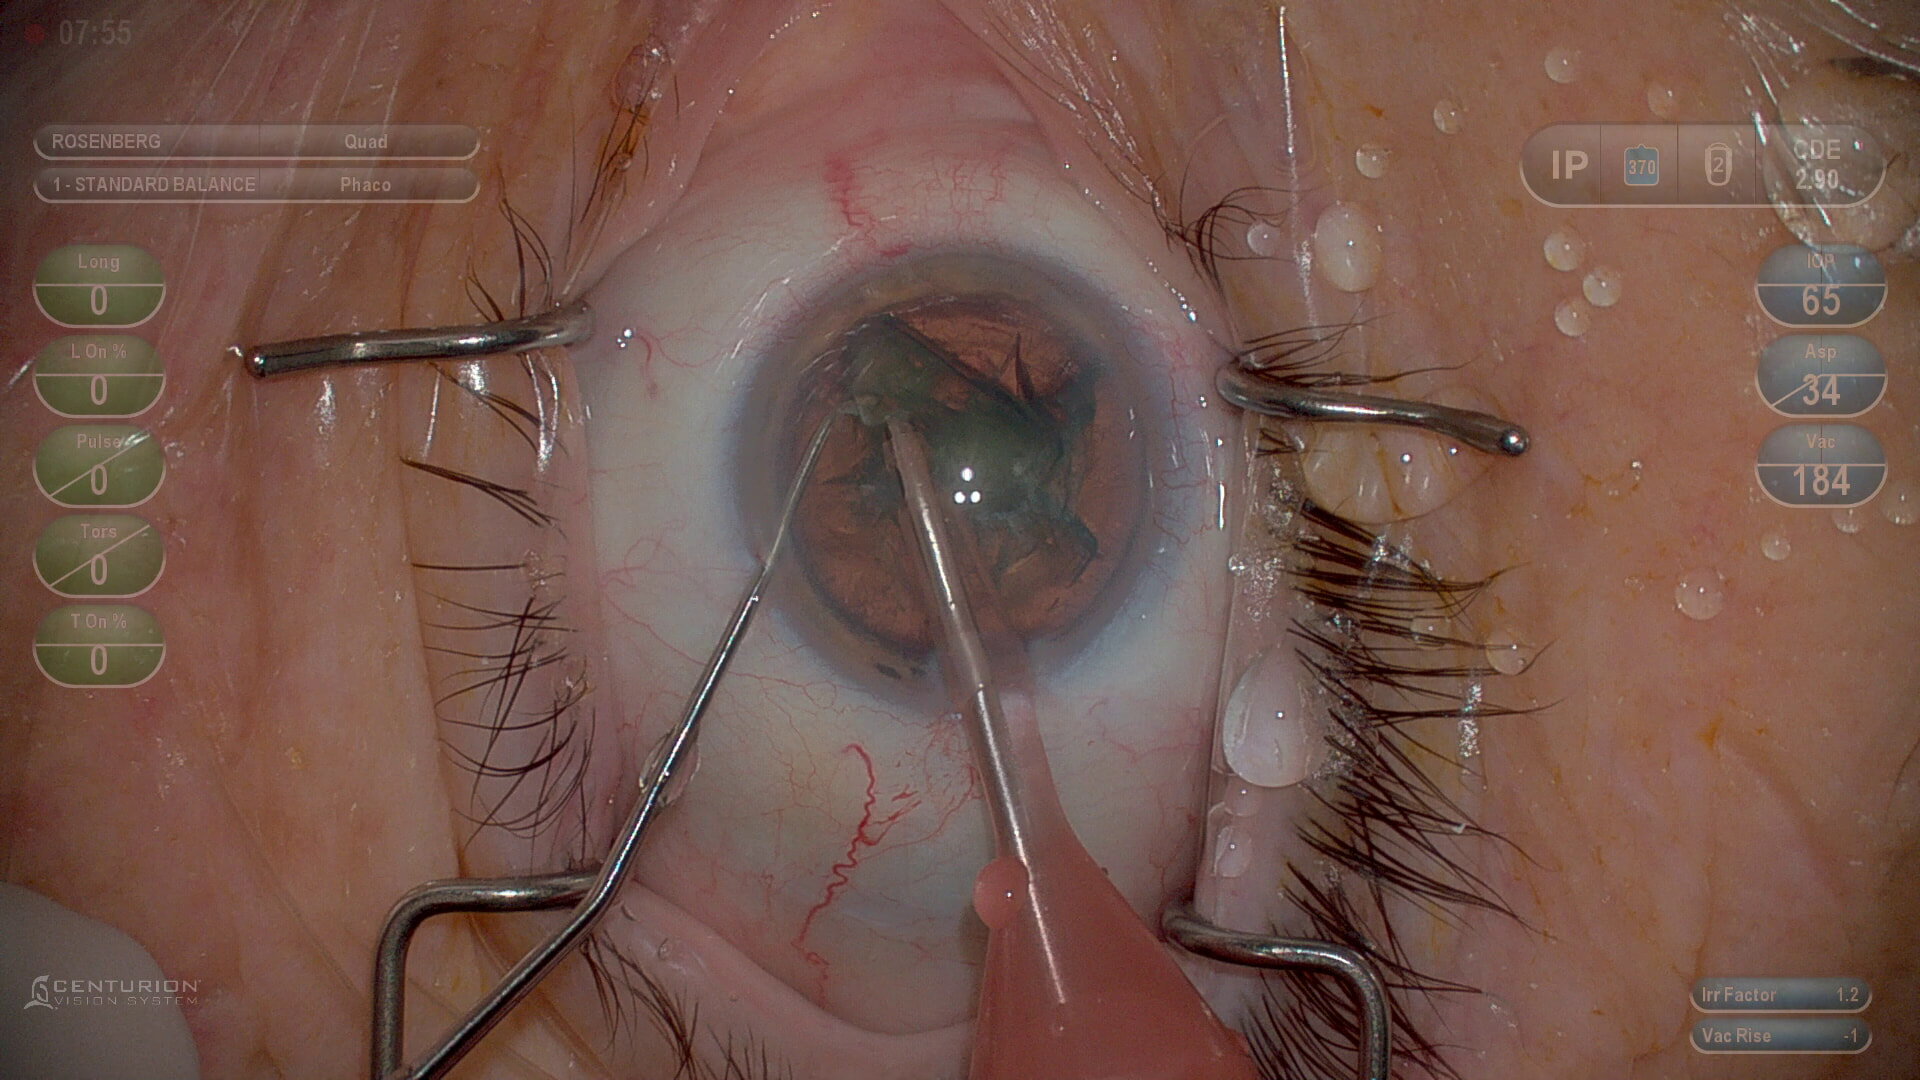iris: (733, 250, 1198, 705)
pupil: (794, 289, 1140, 660)
